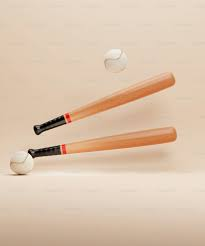baseball bat: (33, 69, 182, 135), (26, 126, 177, 158)
